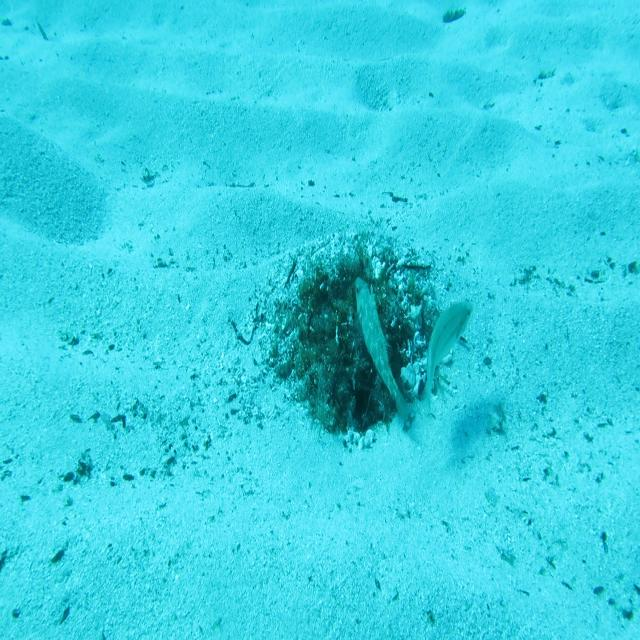FAN: (354, 273, 411, 427)
core_nest: (325, 284, 378, 352)
female: (418, 298, 474, 422)
nest: (248, 205, 474, 459)
vegetation: (441, 4, 468, 25)
